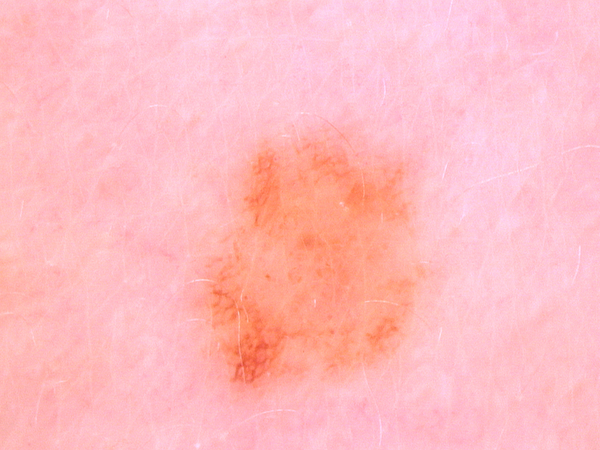Detected Lesion: (195, 131, 428, 405)
